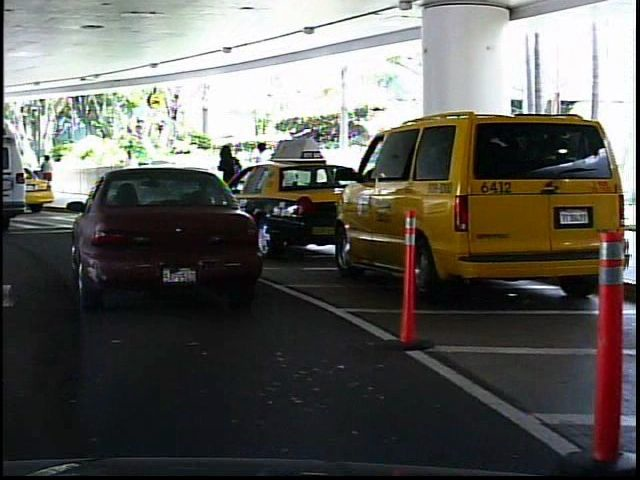person: (213, 140, 248, 212), (251, 137, 278, 211), (118, 144, 142, 204), (38, 151, 60, 198)
